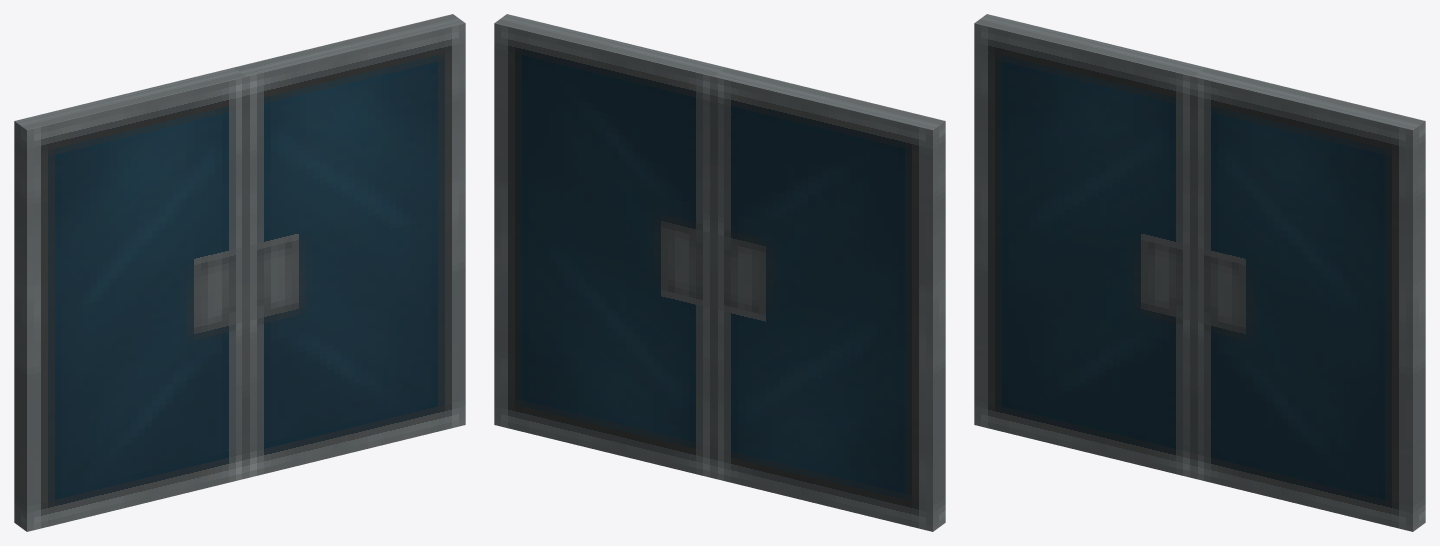
File: door2.fbx
3 views of the same model, side by side, from view 1: azimuth 30°, elevation 25°; view 2: azimuth 150°, elevation 25°; view 3: azimuth 330°, elevation 25° (orthographic).
Visible parts, largest first — view 1: door_right, door_left; view 2: door_right, door_left; view 3: door_left, door_right.
Boxes of the visible parts, <box> form: door_right: <box>14,67,246,531</box>; door_left: <box>234,14,465,478</box>; door_right: <box>713,67,945,531</box>; door_left: <box>494,14,725,478</box>; door_left: <box>1193,67,1425,531</box>; door_right: <box>974,14,1205,478</box>.
Size of the model in its own units: 244 by 213 by 12.19.
